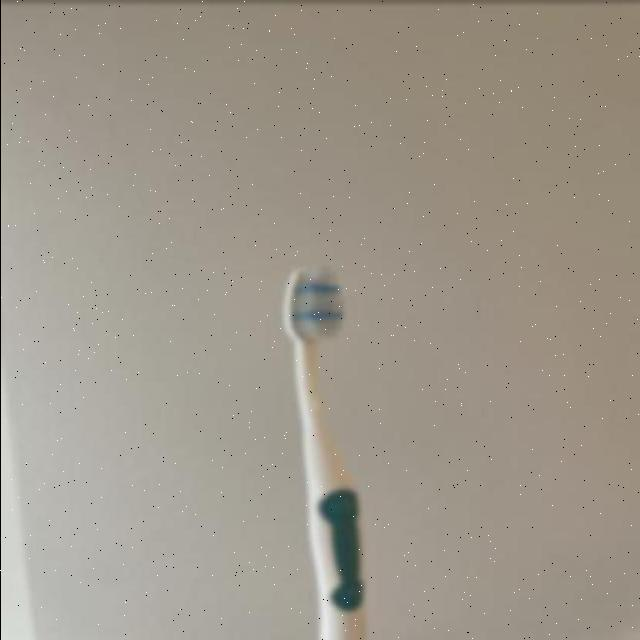toothbrush: (273, 252, 383, 640)
